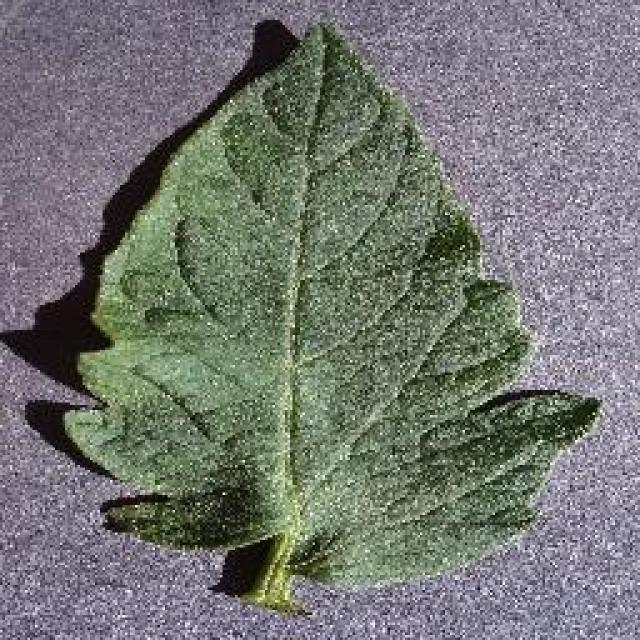Healthy: (48, 2, 612, 632)
